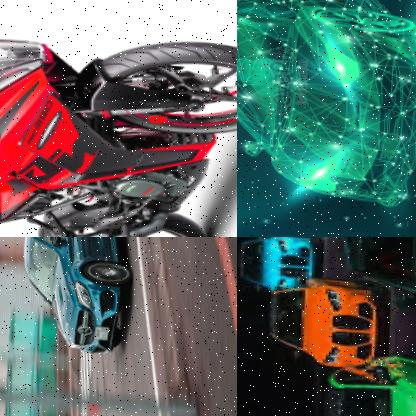bike: (0, 13, 237, 237)
car: (237, 0, 416, 205), (17, 237, 128, 352), (267, 280, 376, 366), (338, 237, 416, 325), (319, 350, 416, 416), (239, 237, 316, 291)
